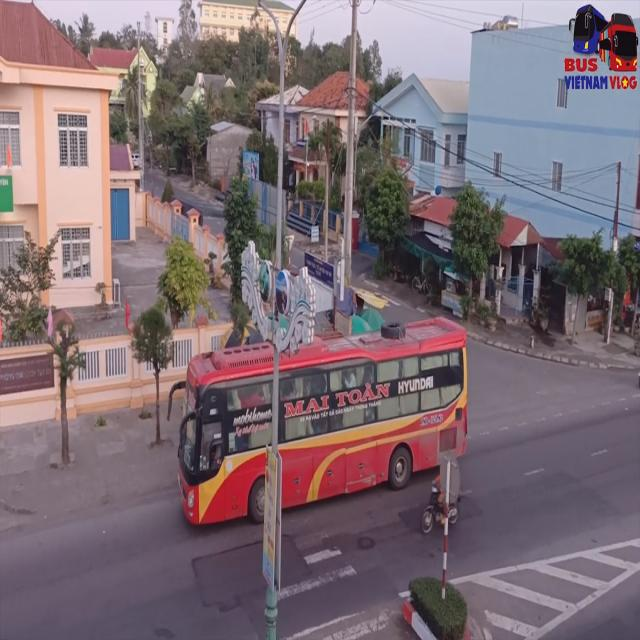bus: (172, 340, 474, 528)
